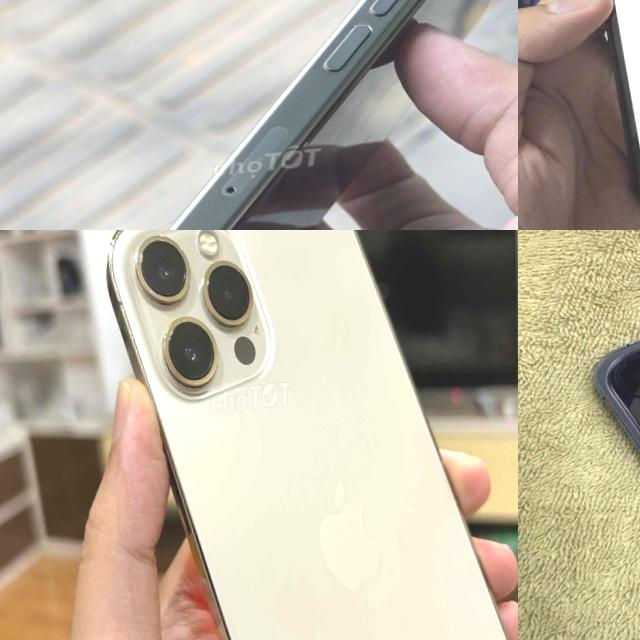gen_12_13: (94, 230, 518, 640)
gen_14: (587, 262, 640, 640)
gen_16: (168, 0, 490, 230)
